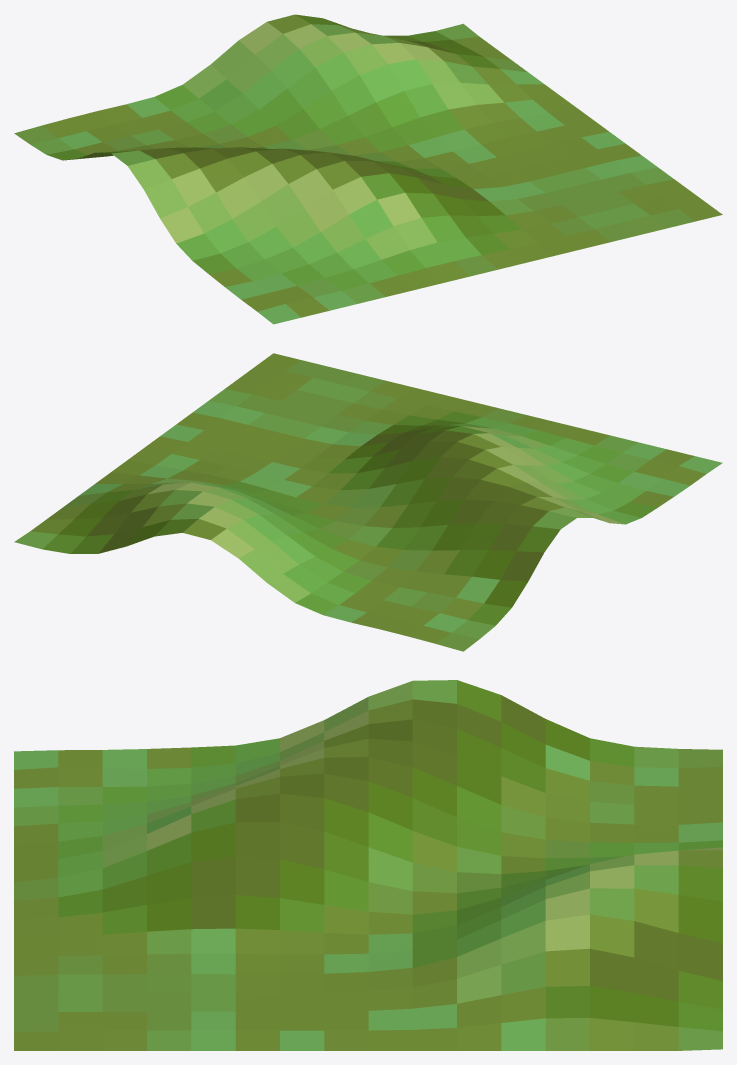
Rendered from hills9.obj.
3 renders of one model, top to bottom at view 1: azimuth 30°, elevation 25°; view 2: azimuth 150°, elevation 25°; view 3: azimuth 270°, elevation 25°, orthographic. The views are drawn at different scales.
Visible parts, largest first — view 1: hills9; view 2: hills9; view 3: hills9.
Boxes of the visible parts, x1,y1,x2,y2 form: hills9: (14,14,722,324); hills9: (14,353,722,651); hills9: (14,680,722,1050).
Bounding box in the file's own units: 1 × 0.1142 × 1.
1 material, 1 textured.
